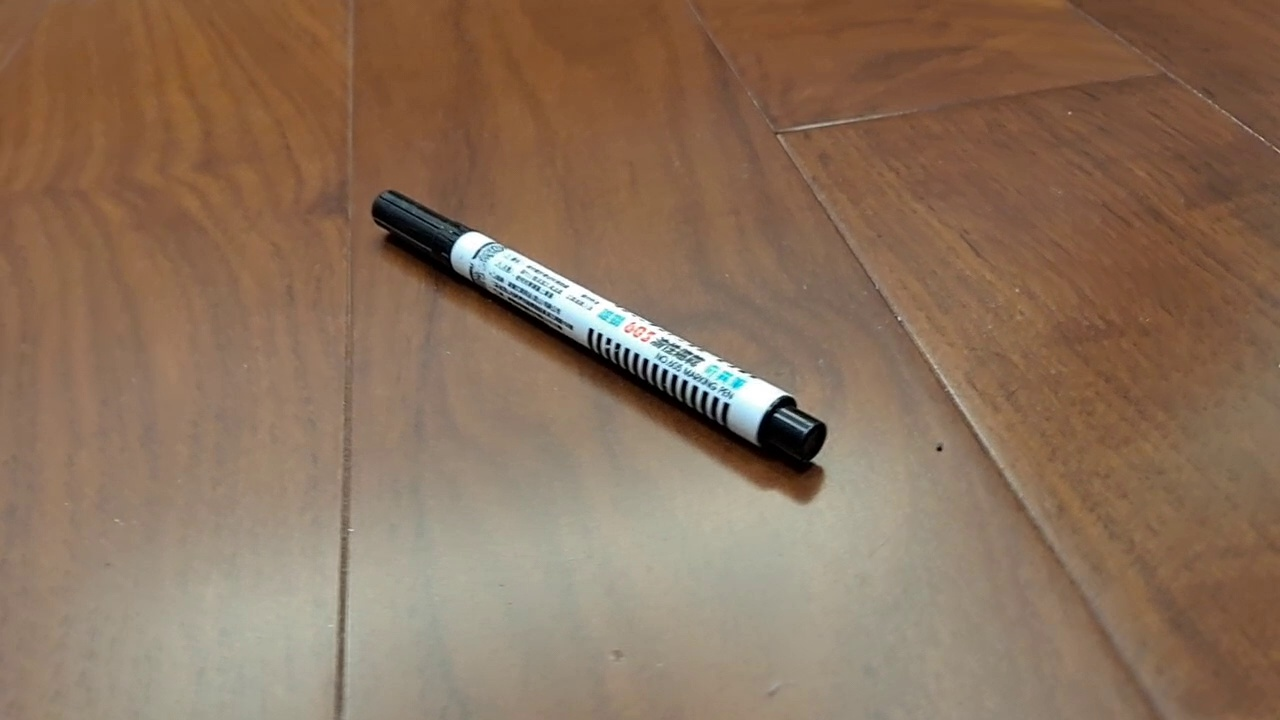pen: (370, 188, 828, 464)
